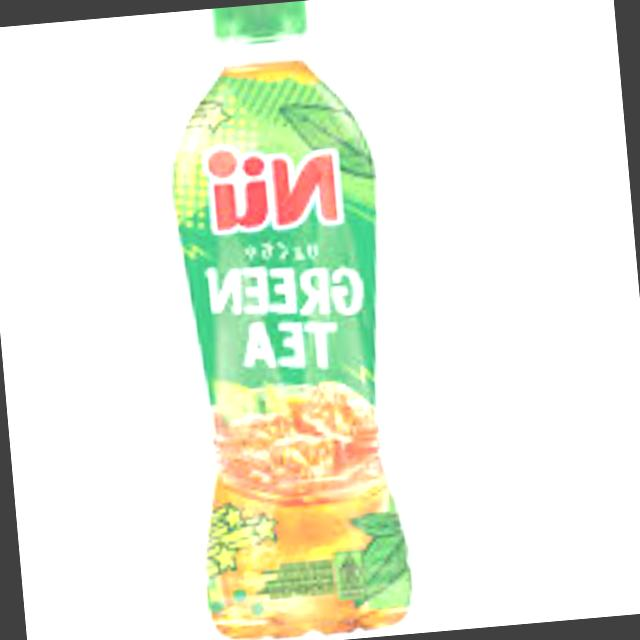trash: (152, 0, 419, 640)
